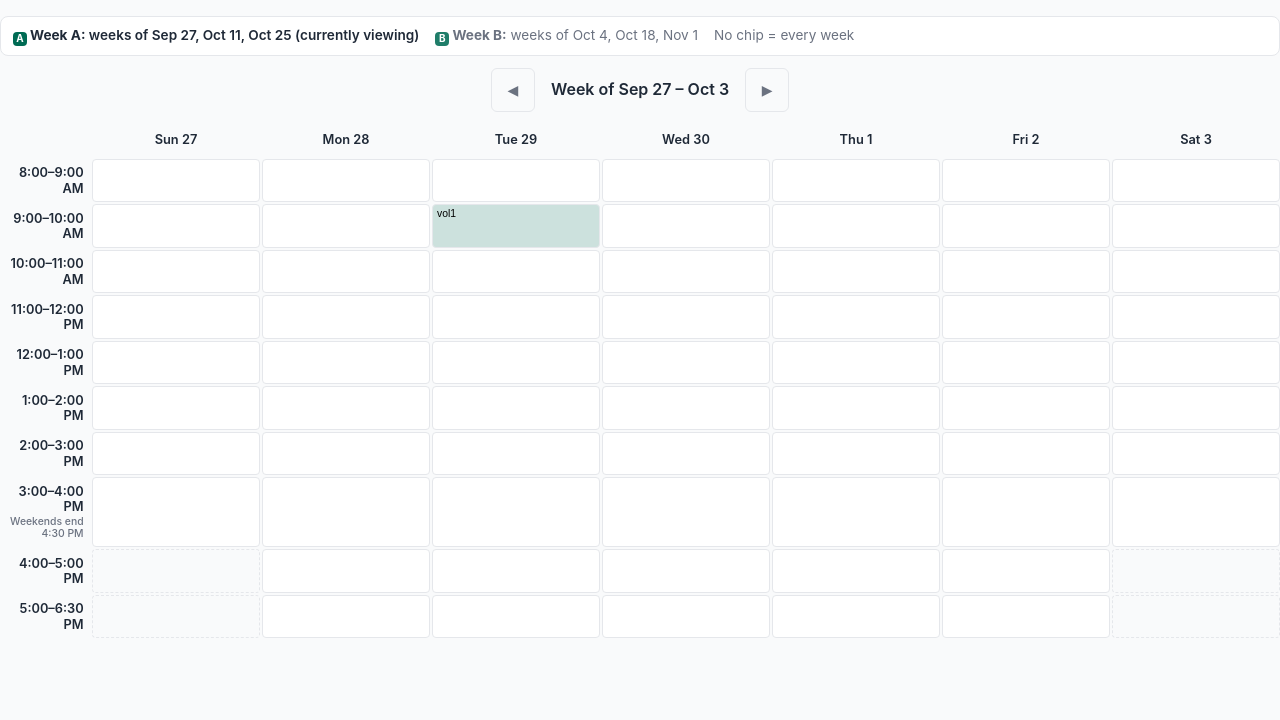
Test case: ScheduleOverview › clicking outside the popover closes it
Click the cell "vol1".
click(516, 226)  # box top-left (432, 204), bottom-right (600, 248)
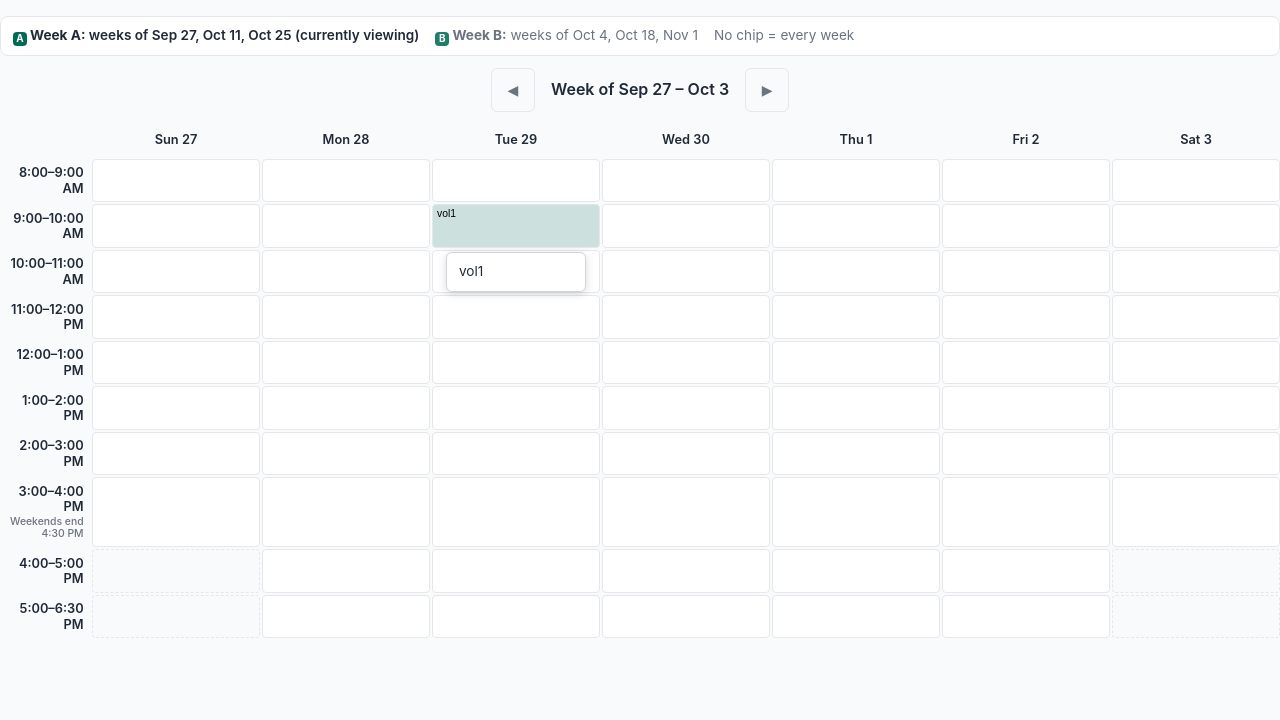
Expected: the 2nd text "vol1" is shown, top-left (459, 261), bottom-right (483, 283)
Press the mouse on the element that starts with "Week" at (640, 360), box top-left (0, 0), bottom-right (1279, 719)
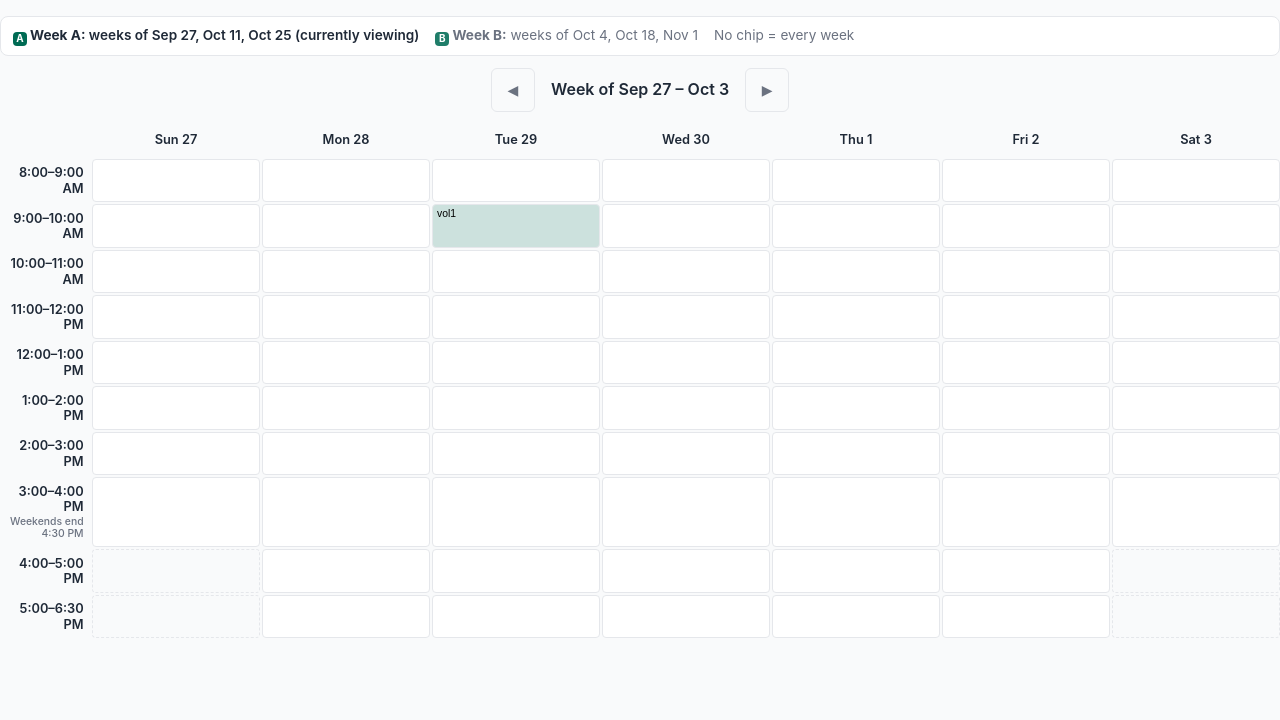
Expected: the list is gone
